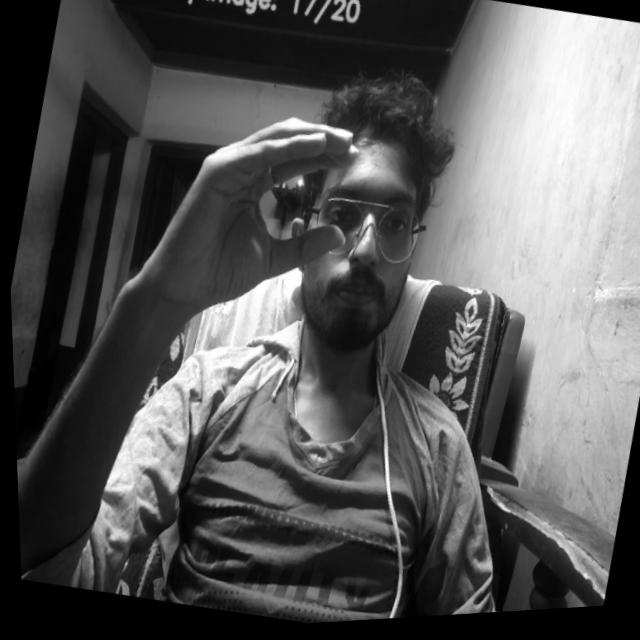No: (142, 94, 374, 366)
